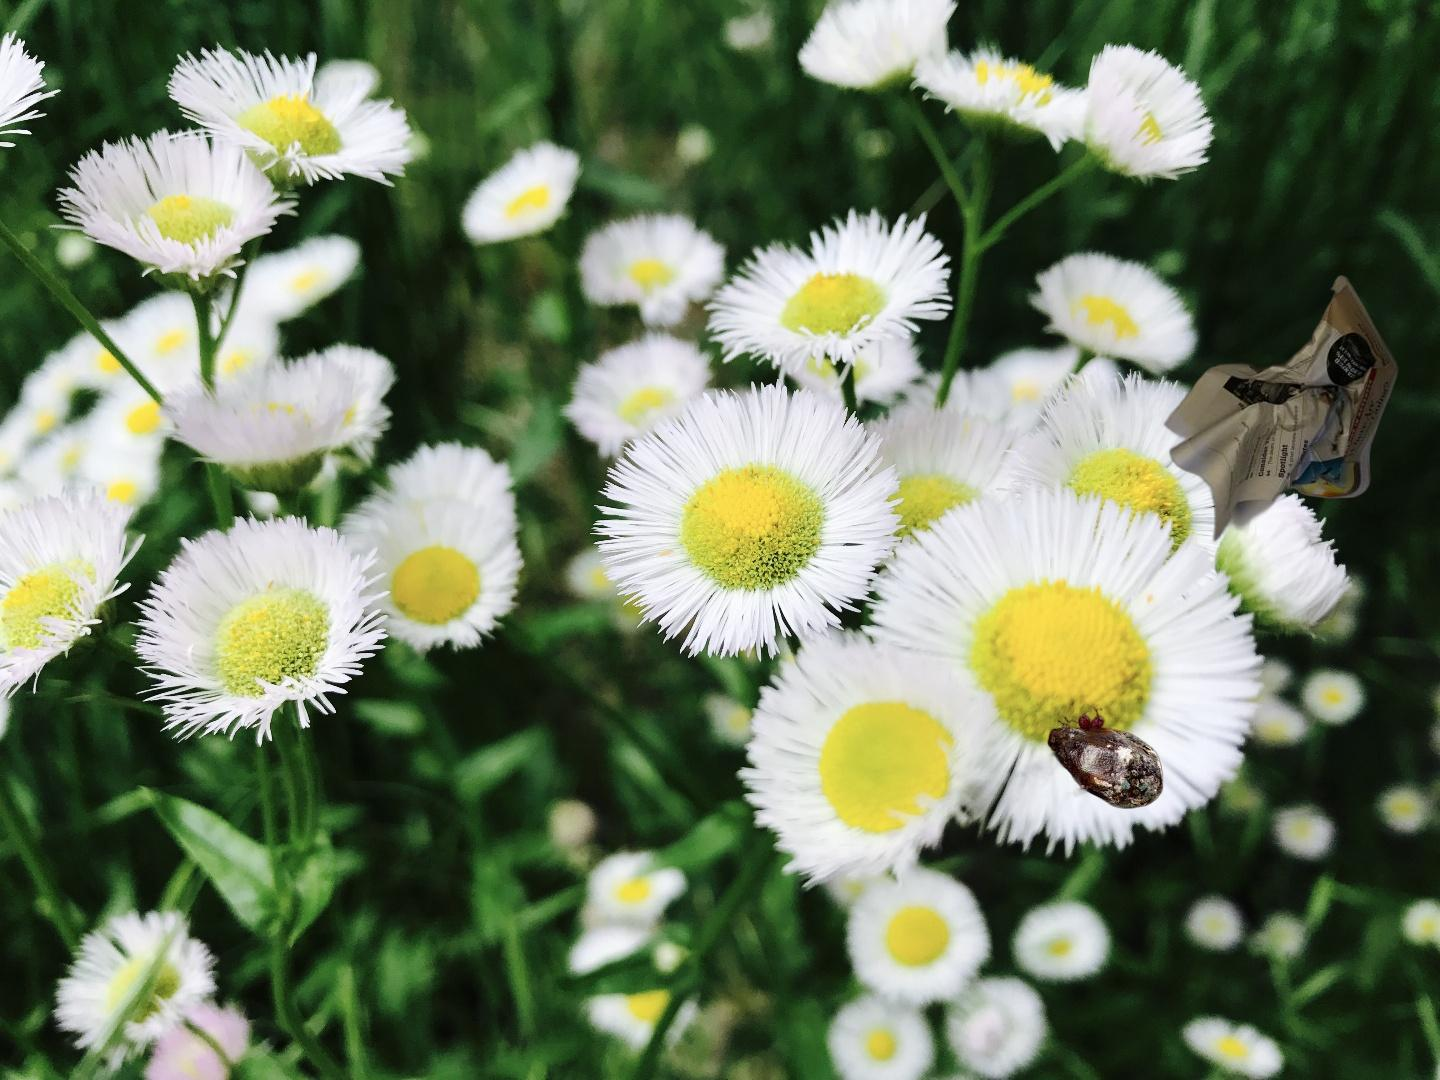biological: (947, 699, 1166, 851)
paper: (1160, 272, 1404, 546)
